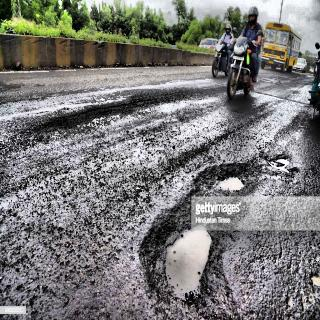pothole: (162, 224, 214, 301), (220, 173, 248, 190), (270, 155, 292, 176)
